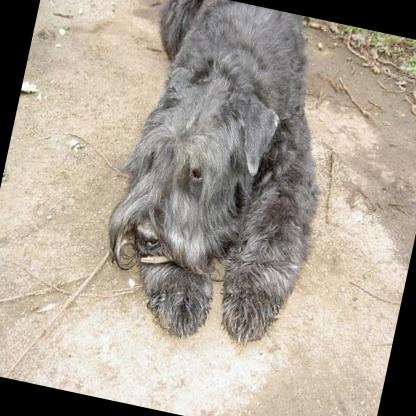Bouvier_des_Flandres: (86, 0, 355, 356)
